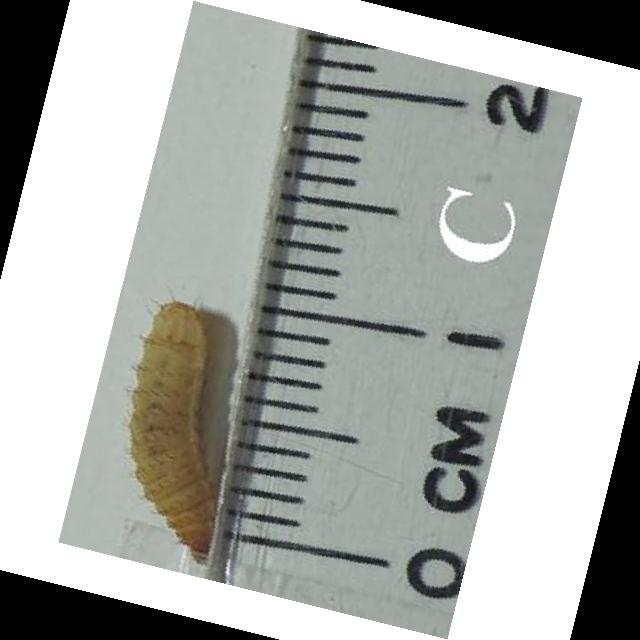Maggot: (134, 300, 222, 561)
